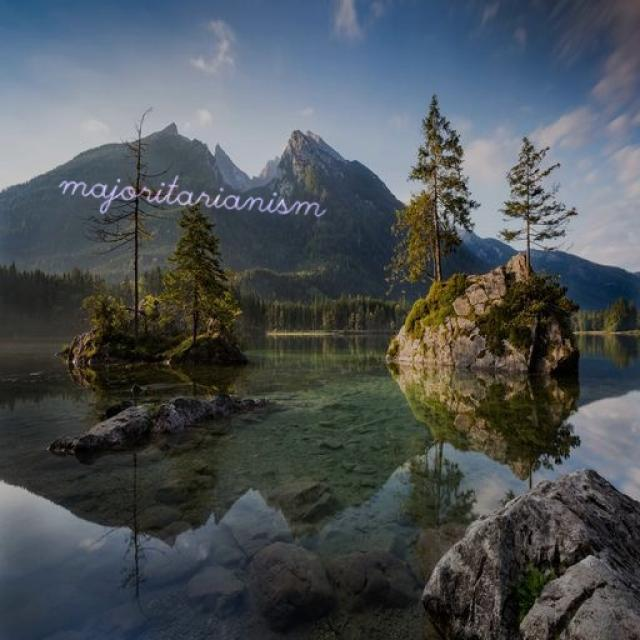watermark: (49, 163, 353, 223)
